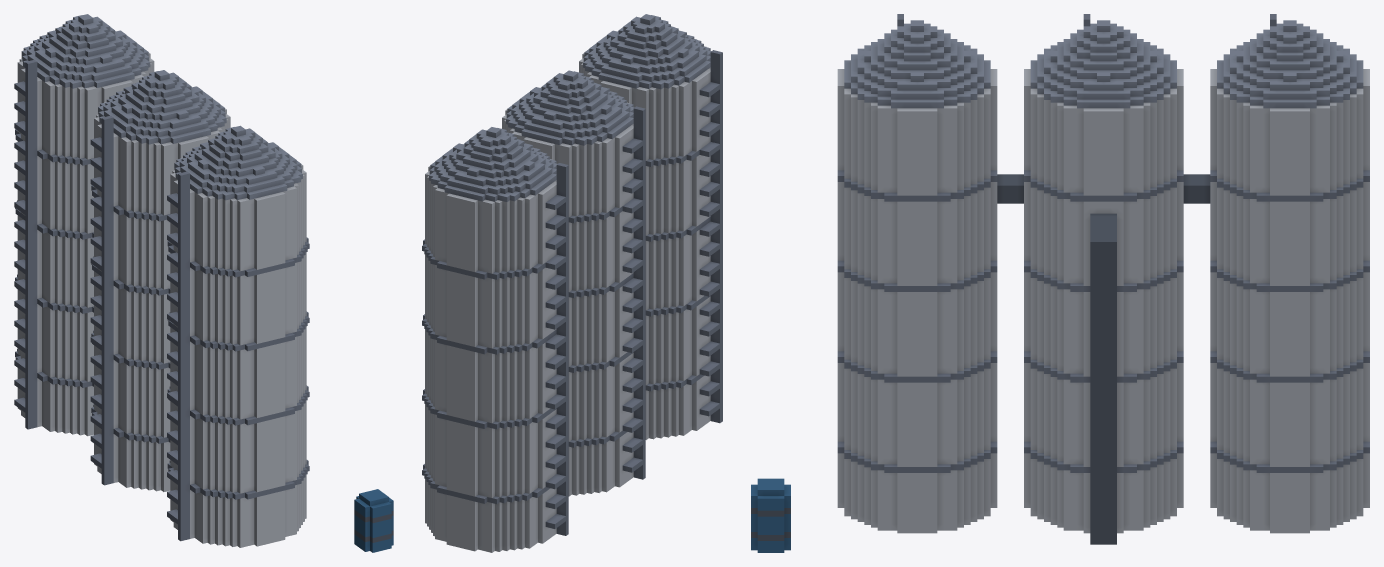
File: factory_e5_l2.glb
3 views of the same model, side by side, from view 1: azimuth 30°, elevation 25°; view 2: azimuth 150°, elevation 25°; view 3: azimuth 270°, elevation 25° (orthographic). The views are drawn at different scales.
Visible parts, largest first — view 1: Base; view 2: Base; view 3: Base.
Boxes of the visible parts, x1,y1,x2,y2 form: Base: (14, 14, 393, 552); Base: (422, 14, 722, 552); Base: (751, 14, 1369, 552).
Size of the model in its own units: 3.6 by 7.9 by 9.3.
